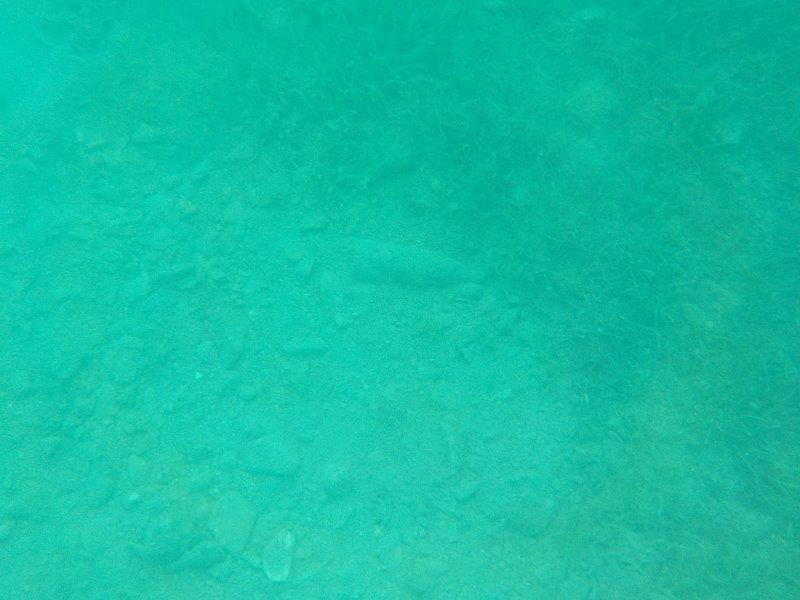bottle: (349, 231, 490, 297)
